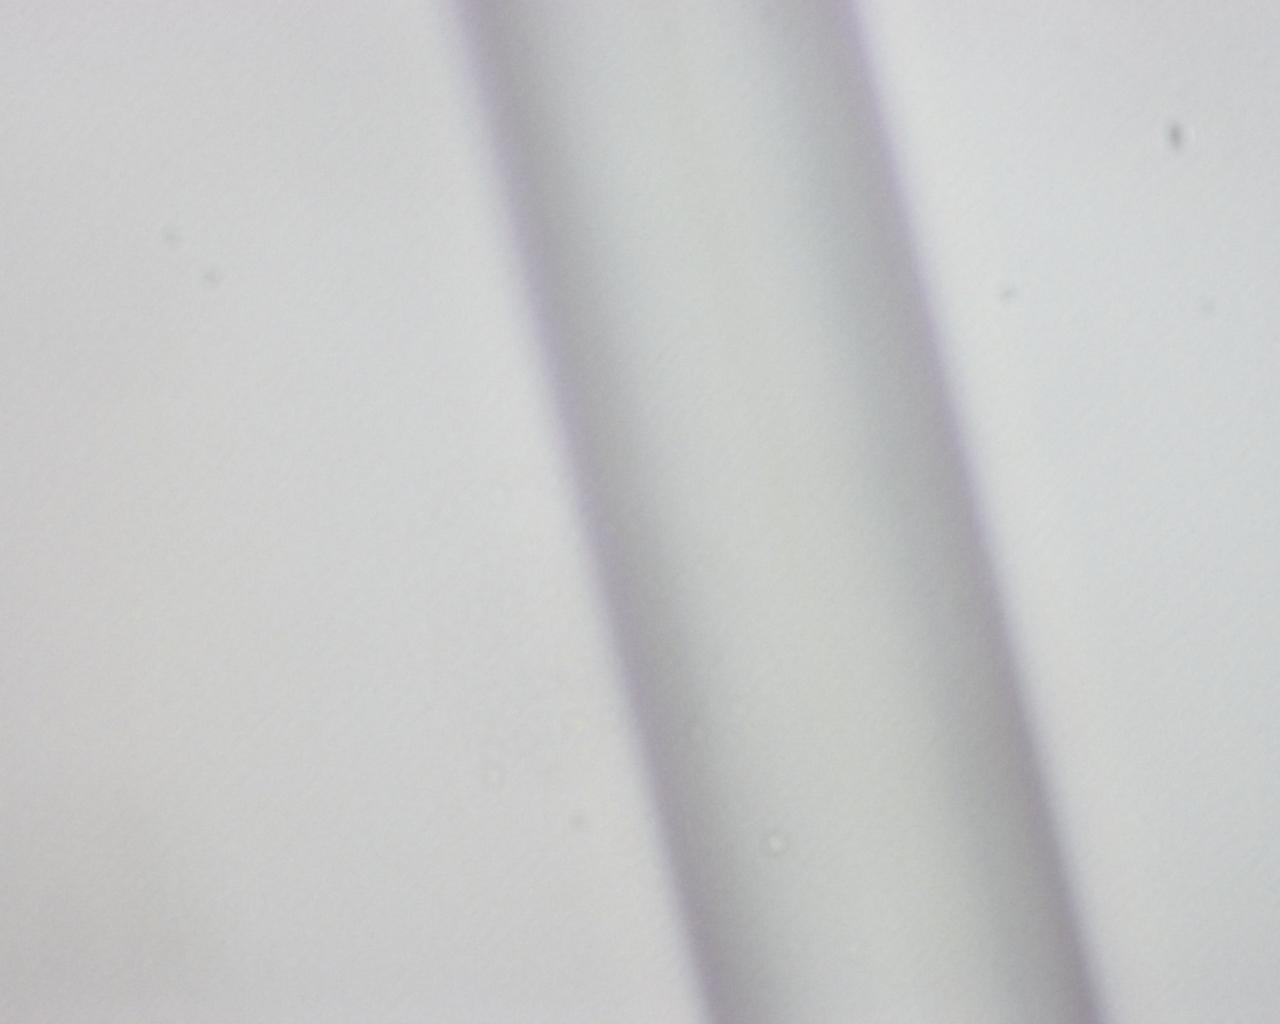fiber: (127, 618, 1151, 866)
